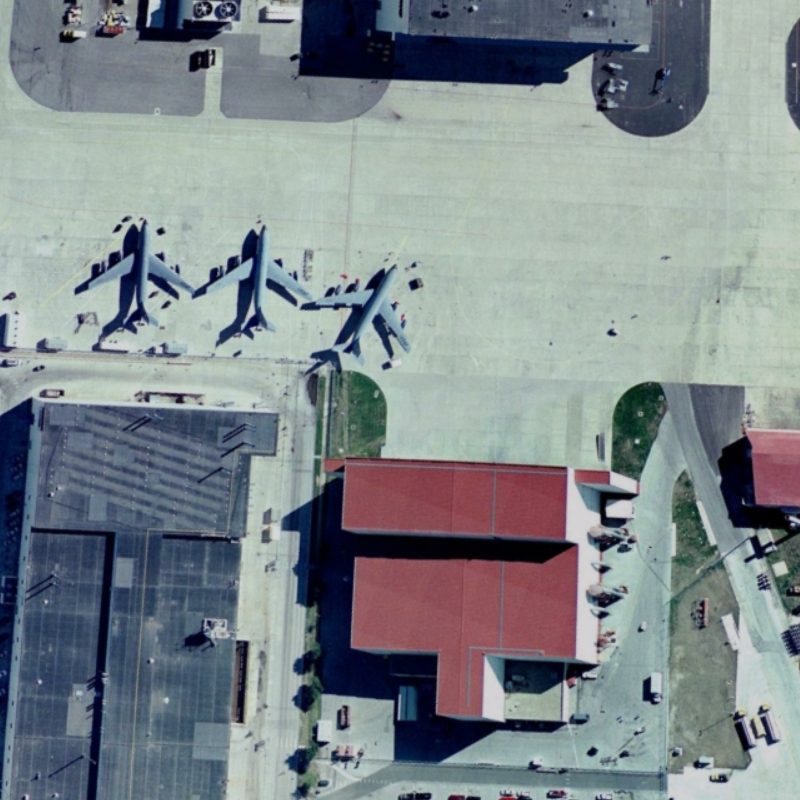A14: (197, 211, 310, 342), (82, 214, 199, 338), (312, 250, 421, 372)
